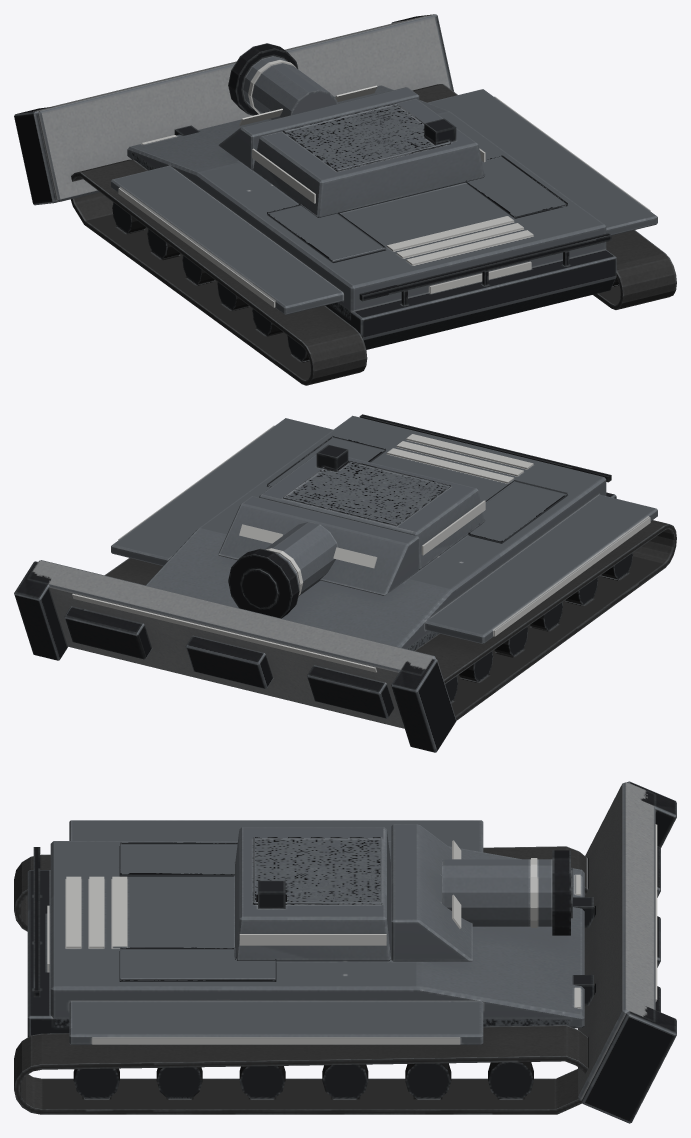
The model's file is chs_minotaur.fbx.
3 renders of one model, top to bottom at view 1: azimuth 30°, elevation 25°; view 2: azimuth 150°, elevation 25°; view 3: azimuth 270°, elevation 25°, orthographic. The views are drawn at different scales.
Visible parts, largest first — view 1: base_bar, ram_bar, turret_bar, trackL_bar, base_glow_running_bar, barrel_bar, trackR_bar, turret_glow_running_bar; view 2: base_bar, ram_bar, turret_bar, trackL_bar, barrel_bar, base_glow_running_bar, turret_glow_running_bar, ram_glow_running_bar, trackR_bar; view 3: base_bar, trackR_bar, turret_bar, ram_bar, barrel_bar, base_glow_running_bar, trackL_bar, turret_glow_running_bar, ram_glow_running_bar.
Part boxes in pixels (x1,y1,x2,y2): base_bar: [111, 85, 657, 349]; ram_bar: [14, 14, 453, 205]; turret_bar: [218, 87, 484, 217]; trackL_bar: [70, 159, 367, 385]; base_glow_running_bar: [118, 96, 650, 307]; barrel_bar: [228, 43, 337, 120]; trackR_bar: [412, 84, 676, 309]; turret_glow_running_bar: [239, 85, 485, 203]; base_bar: [111, 414, 657, 650]; ram_bar: [14, 560, 456, 752]; turret_bar: [218, 444, 484, 595]; trackL_bar: [414, 520, 676, 720]; barrel_bar: [228, 522, 337, 618]; base_glow_running_bar: [118, 425, 650, 636]; turret_glow_running_bar: [239, 500, 485, 568]; ram_glow_running_bar: [72, 593, 376, 672]; trackR_bar: [104, 558, 162, 585]; base_bar: [27, 820, 584, 1044]; trackR_bar: [14, 1025, 587, 1114]; turret_bar: [235, 824, 472, 961]; ram_bar: [573, 781, 676, 1123]; barrel_bar: [442, 850, 572, 935]; base_glow_running_bar: [47, 876, 460, 1044]; trackL_bar: [14, 846, 587, 931]; turret_glow_running_bar: [239, 840, 461, 945]; ram_glow_running_bar: [655, 824, 657, 1001].
Bounding box in the file's own units: 1200 × 573 × 1441.
Materials: 2 (2 with a texture image).
